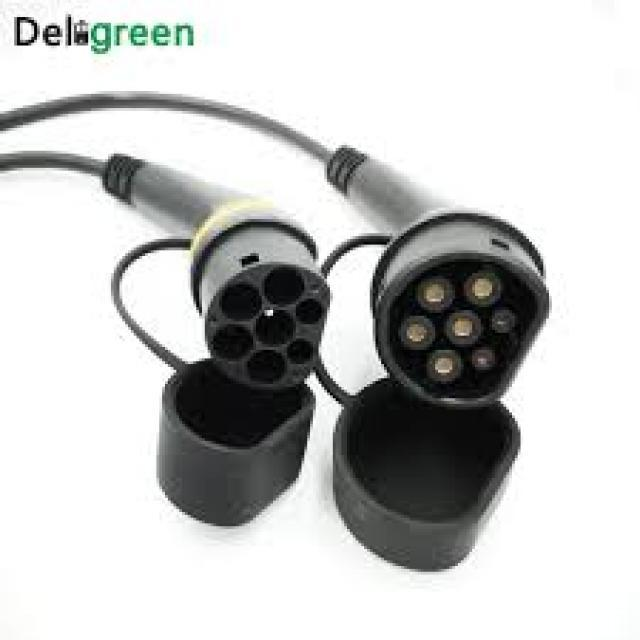Type 2: (371, 209, 556, 433)
